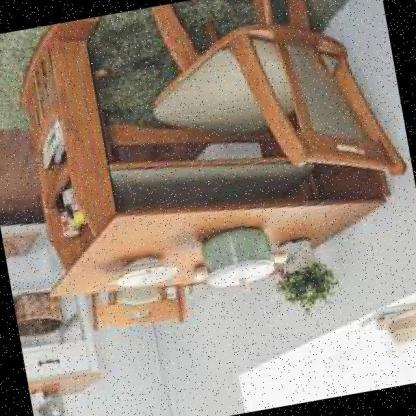Chair: (130, 0, 409, 231)
Table: (23, 105, 403, 324)
